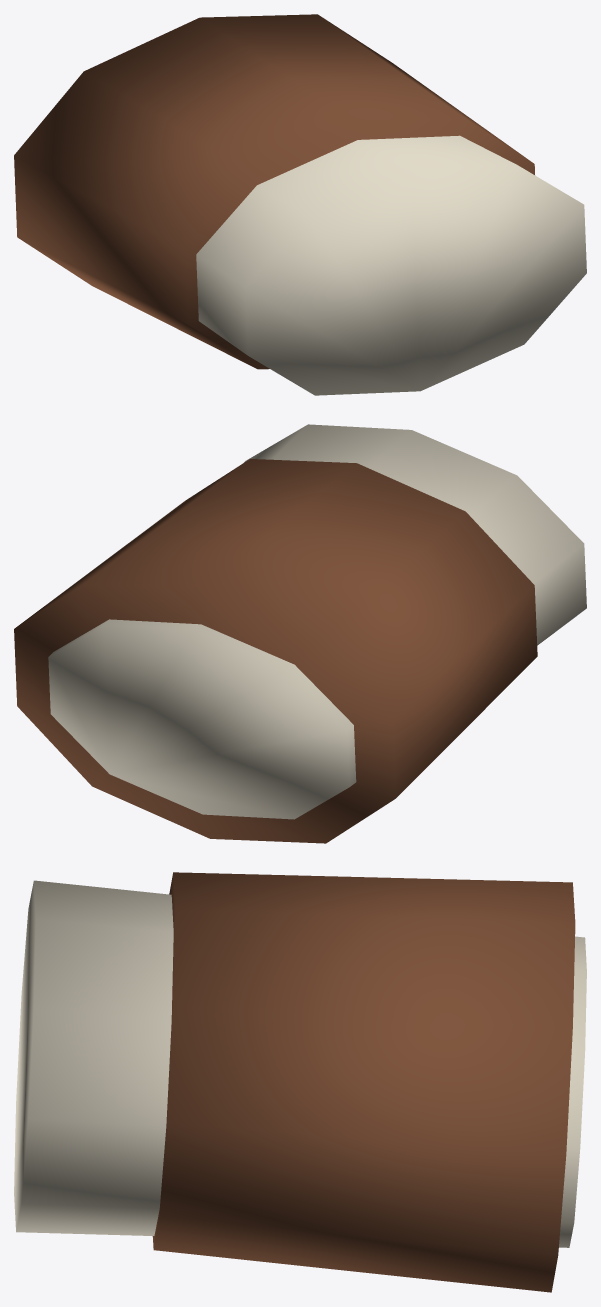
The model's file is SM_W02_Climber_Torso.fbx.
The picture shows the model from 3 angles, top to bottom: view 1: azimuth 30°, elevation 25°; view 2: azimuth 150°, elevation 25°; view 3: azimuth 270°, elevation 25°; orthographic projection. The views are drawn at different scales.
Visible parts, largest first — view 1: SM_W02_Climber_Torso; view 2: SM_W02_Climber_Torso; view 3: SM_W02_Climber_Torso.
Boxes of the visible parts, box(x1,y1,x2,y2) form: SM_W02_Climber_Torso: box(14, 14, 586, 395); SM_W02_Climber_Torso: box(14, 424, 586, 843); SM_W02_Climber_Torso: box(14, 872, 586, 1292).
Bounding box in the file's own units: 0.7228 × 0.745 × 0.4891.
